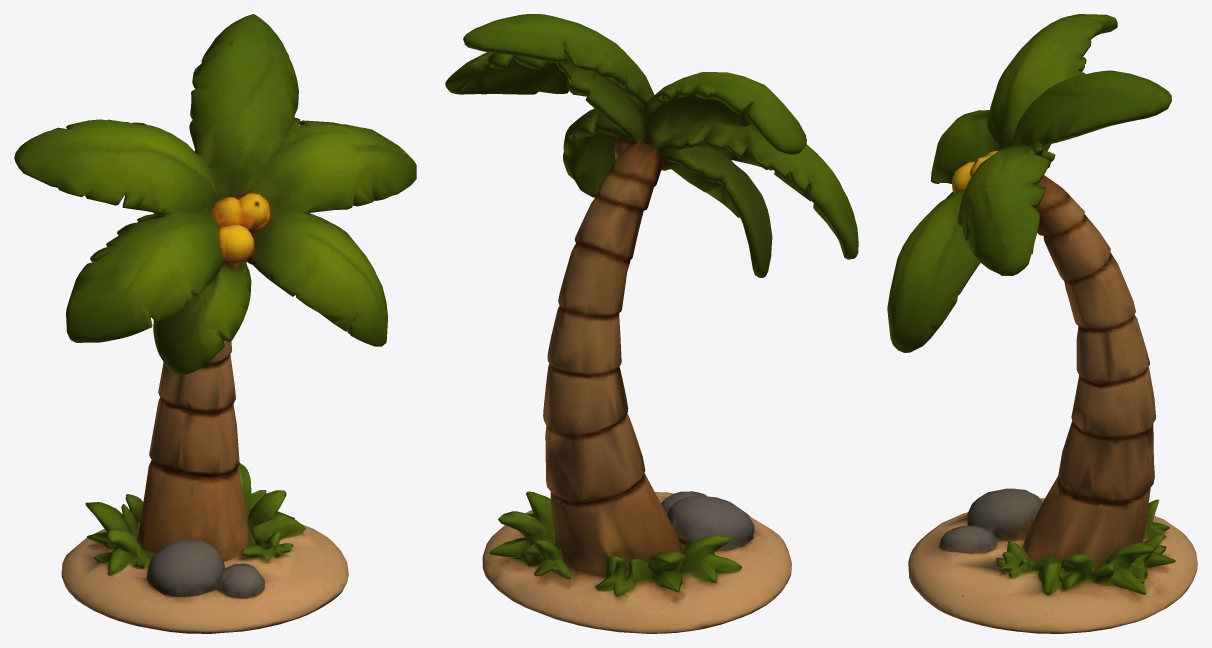
Rendered from palm_tree.glb.
The picture shows the model from 3 angles, left to right: view 1: azimuth 30°, elevation 25°; view 2: azimuth 150°, elevation 25°; view 3: azimuth 270°, elevation 25°; orthographic projection. The views are drawn at different scales.
Parts seen in each view (by area): view 1: geometry_0; view 2: geometry_0; view 3: geometry_0.
Boxes of the visible parts, x1,y1,x2,y2 form: geometry_0: (14, 14, 416, 633); geometry_0: (445, 14, 858, 633); geometry_0: (887, 14, 1197, 633).
Size of the model in its own units: 0.7447 by 0.9989 by 0.5289.
Materials: 1 (1 with a texture image).
